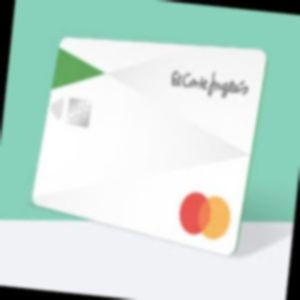corte_ingles: (132, 32, 300, 96)
